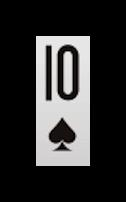10S: (40, 41, 83, 155)
